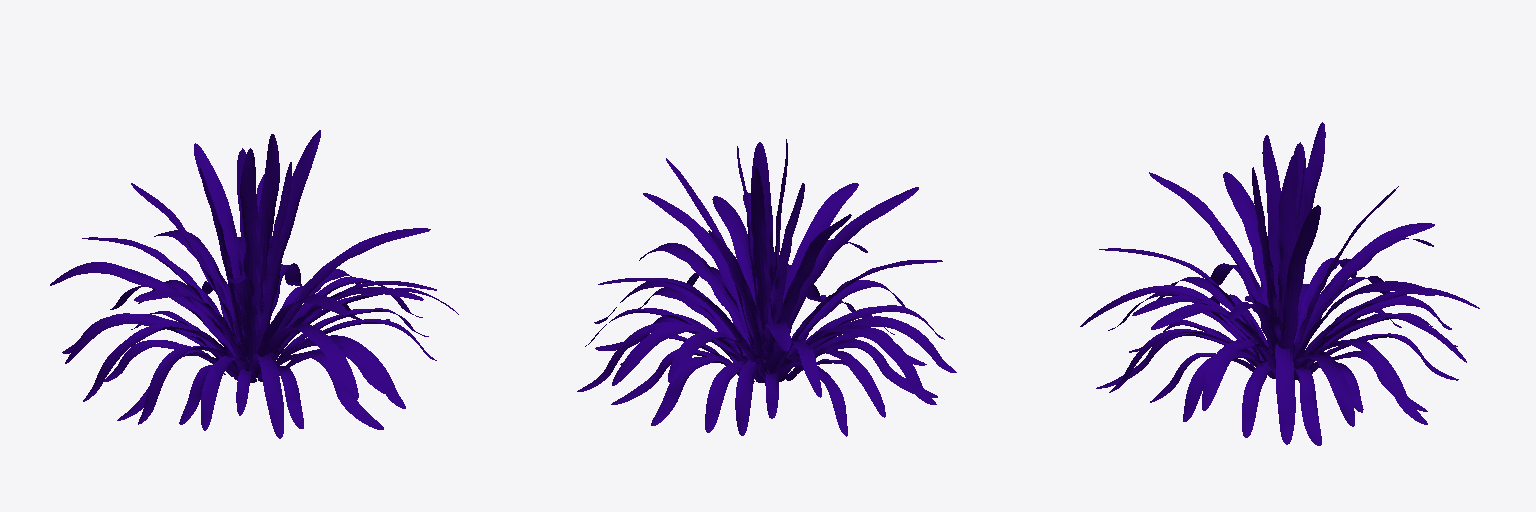
File: Phormium_1.obj
The picture shows the model from 3 angles: view 1: azimuth 30°, elevation 25°; view 2: azimuth 150°, elevation 25°; view 3: azimuth 270°, elevation 25°; orthographic projection.
Parts seen in each view (by area): view 1: Phormium_tenax_A001; view 2: Phormium_tenax_A001; view 3: Phormium_tenax_A001.
Boxes of the visible parts, x1,y1,x2,y2 form: Phormium_tenax_A001: [50, 130, 458, 438]; Phormium_tenax_A001: [577, 139, 956, 436]; Phormium_tenax_A001: [1080, 122, 1479, 445].
Bounding box in the file's own units: 11.71 × 7.58 × 11.91.